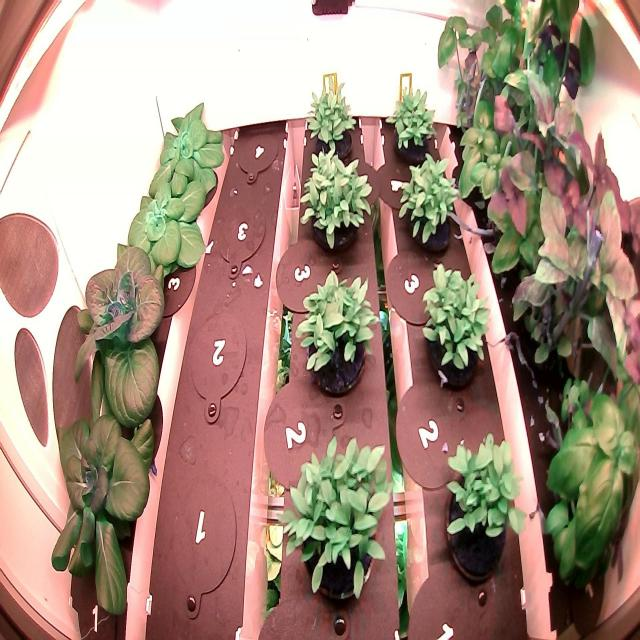empty_pod: (157, 462, 241, 618), (185, 298, 256, 422), (206, 189, 274, 285), (230, 119, 285, 184)
young: (40, 370, 161, 629), (66, 224, 179, 452), (125, 168, 208, 285), (146, 95, 229, 198)
